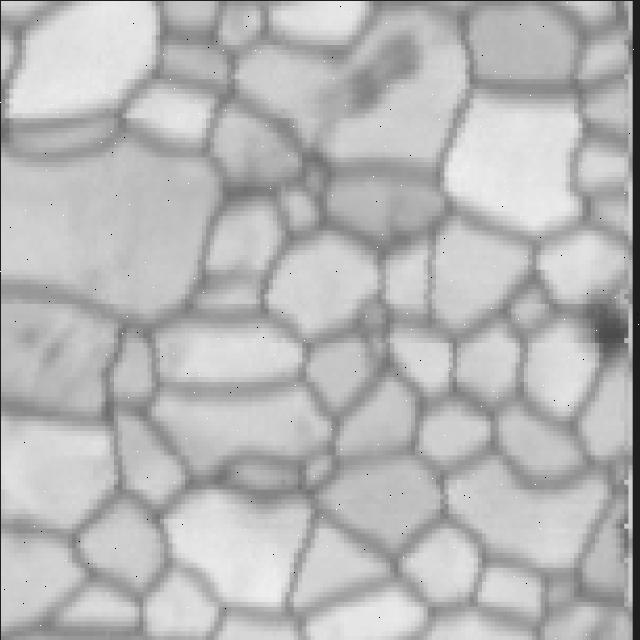good_void: (334, 16, 422, 143), (574, 272, 629, 376), (30, 327, 68, 382), (18, 322, 42, 354)
